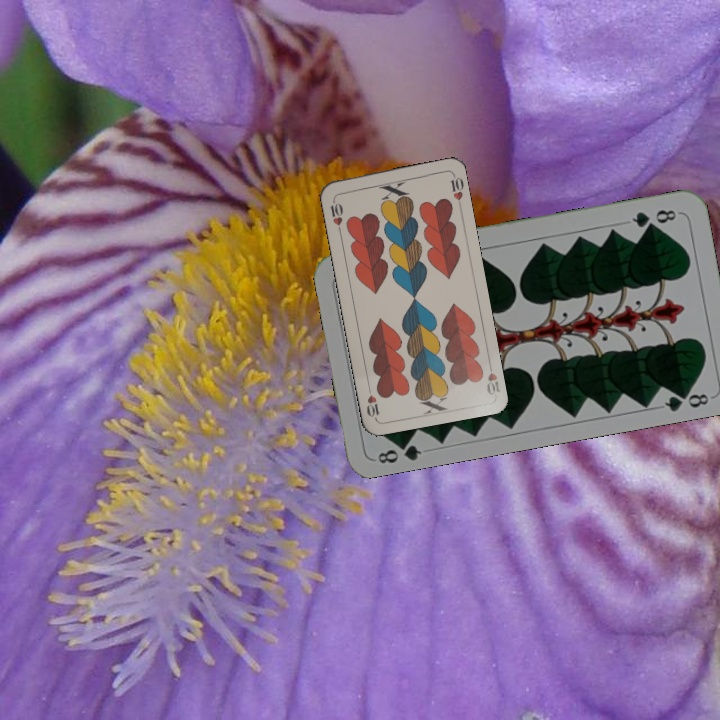G8: (374, 435, 424, 466), (628, 205, 679, 231)
H10: (326, 194, 346, 235), (483, 357, 502, 397)
